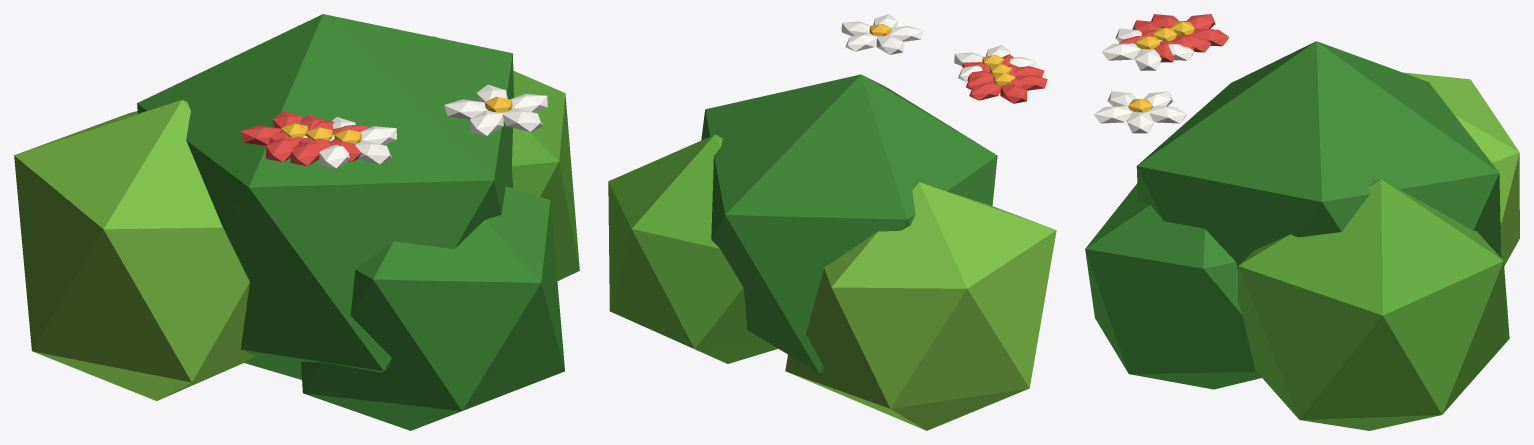
File: shrub_flowering.glb
The picture shows the model from 3 angles, left to right: view 1: azimuth 30°, elevation 25°; view 2: azimuth 150°, elevation 25°; view 3: azimuth 270°, elevation 25°; orthographic projection. The views are drawn at different scales.
Parts seen in each view (by area): view 1: shrub_flowering; view 2: shrub_flowering; view 3: shrub_flowering.
Boxes of the visible parts, x1,y1,x2,y2 form: shrub_flowering: [14, 14, 579, 430]; shrub_flowering: [608, 14, 1056, 430]; shrub_flowering: [1085, 14, 1519, 430].
Size of the model in its own units: 0.7249 by 0.5047 by 0.5833.
